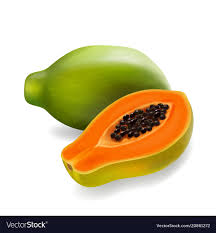papaya: (60, 89, 194, 187), (25, 46, 170, 132)
